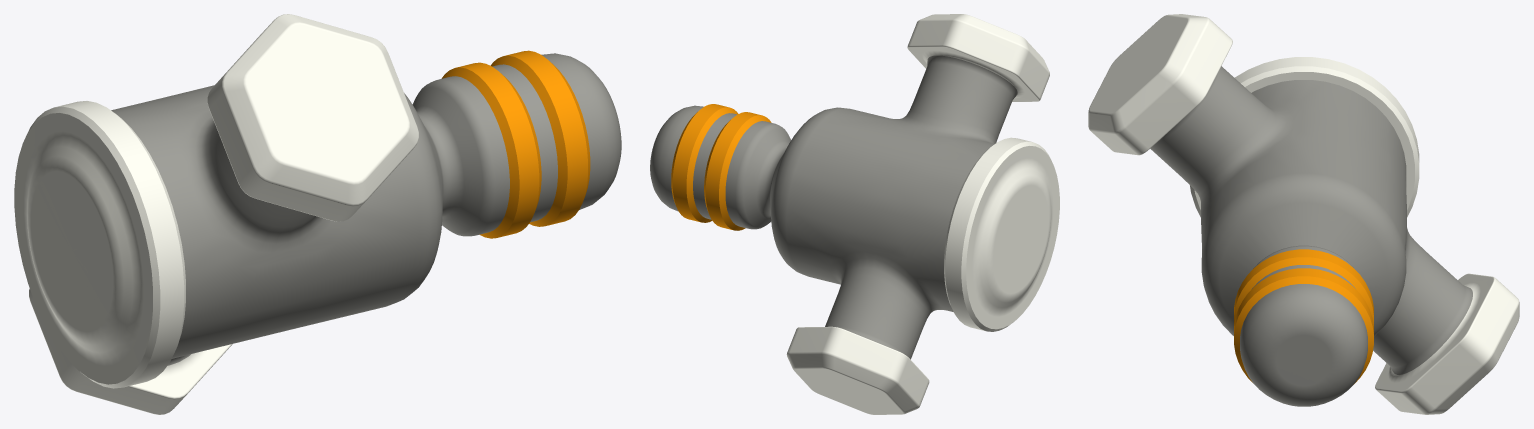
The model's file is Rotator.fbx.
3 views of the same model, side by side, from view 1: azimuth 30°, elevation 25°; view 2: azimuth 150°, elevation 25°; view 3: azimuth 270°, elevation 25° (orthographic). The views are drawn at different scales.
Visible parts, largest first — view 1: Rotator; view 2: Rotator; view 3: Rotator.
Part boxes in pixels (x1,y1,x2,y2): Rotator: (14,14,621,414); Rotator: (650,14,1059,414); Rotator: (1088,14,1519,414).
Size of the model in its own units: 2.27 by 2.01 by 2.01.
